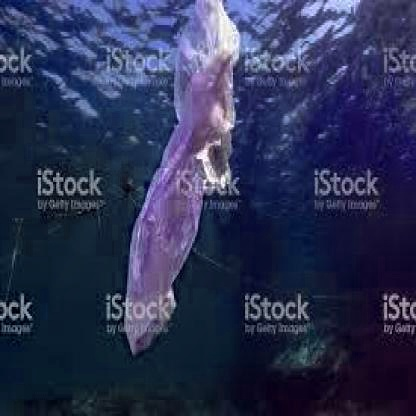pbag: (123, 2, 242, 362)
